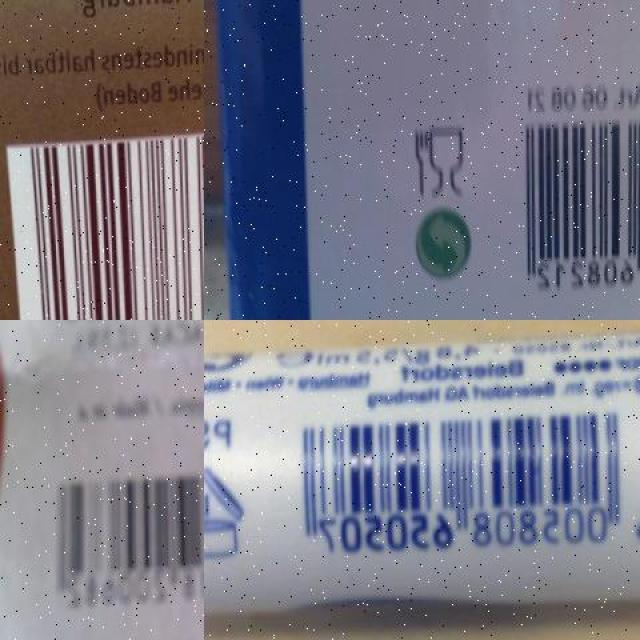Barcode: (280, 401, 640, 575), (4, 125, 204, 320), (37, 451, 204, 637), (504, 107, 640, 300)
